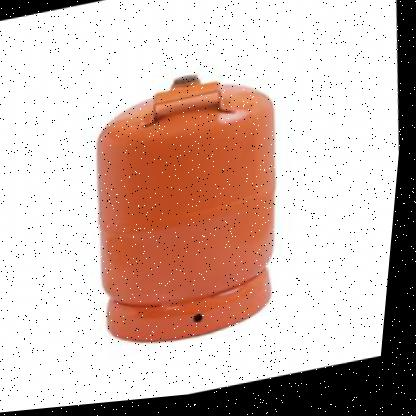gas-tank: (55, 44, 322, 371)
